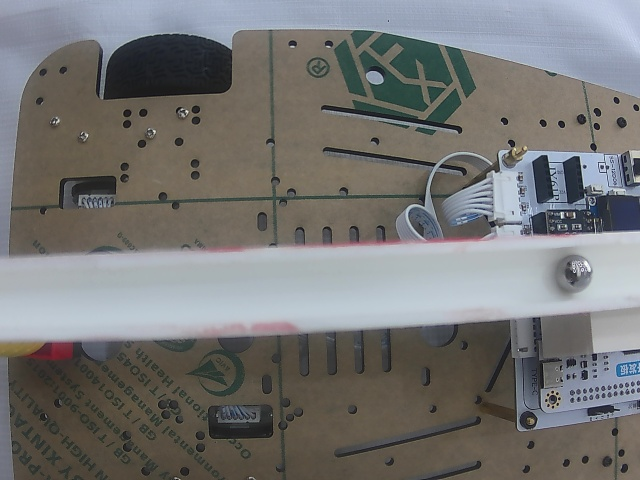steelball: (554, 254, 593, 292)
